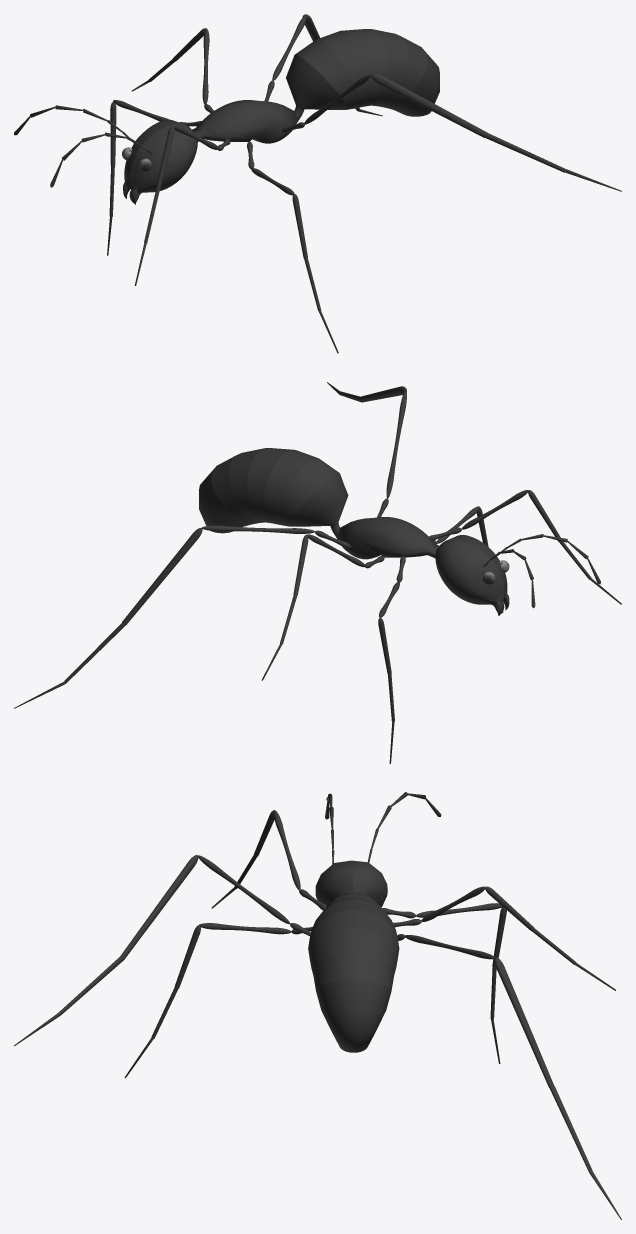
The model's file is ant.dae.
The picture shows the model from 3 angles, top to bottom: view 1: azimuth 30°, elevation 25°; view 2: azimuth 150°, elevation 25°; view 3: azimuth 270°, elevation 25°; orthographic projection. The views are drawn at different scales.
Visible parts, largest first — view 1: Abdomen, Head-Half (×2), Thorax, LongRearLegSegment1, LongRearLegSegment2; view 2: Abdomen, Head-Half (×2), Thorax, RearLegMid (×2), LongRearLegSegment1; view 3: Abdomen, Head-Half (×2), LongRearLegSegment1 (×2), RearLegMid.
Part boxes in pixels (<box>): Abdomen: <box>286,29,439,117</box>; Head-Half (×2): <box>123,119,197,204</box>; Thorax: <box>192,100,300,143</box>; LongRearLegSegment1: <box>370,73,487,137</box>; LongRearLegSegment2: <box>485,133,566,172</box>; Abdomen: <box>199,448,348,534</box>; Head-Half (×2): <box>435,535,509,615</box>; Thorax: <box>334,517,439,559</box>; RearLegMid (×2): <box>202,390,406,533</box>; LongRearLegSegment1: <box>122,528,202,625</box>; Abdomen: <box>308,897,399,1052</box>; Head-Half (×2): <box>315,860,387,906</box>; LongRearLegSegment1 (×2): <box>120,855,554,1087</box>; RearLegMid: <box>198,855,290,924</box>.
Size of the model in its own units: 3461 by 3598 by 1794.
